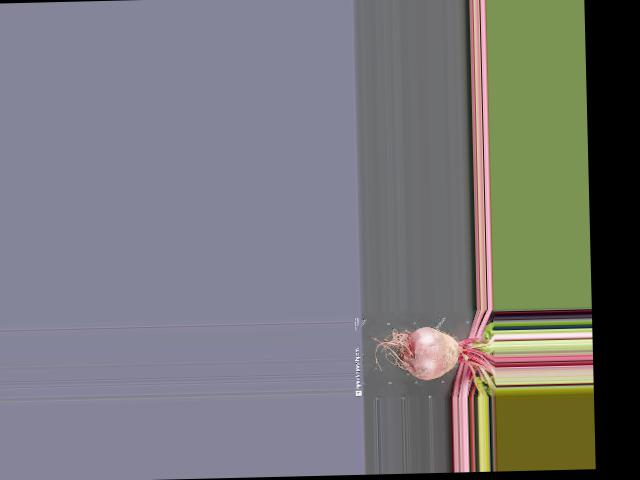beet: (369, 324, 495, 399)
